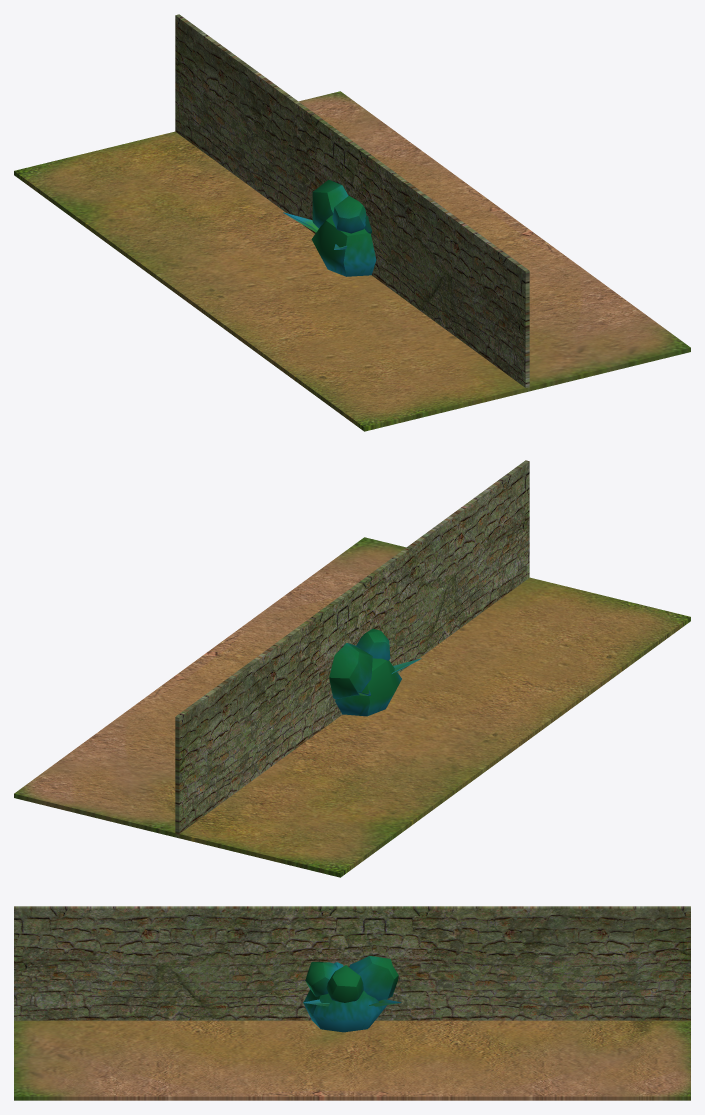
Rendered from assets_LF.fbx.
3 views of the same model, one above another, from view 1: azimuth 30°, elevation 25°; view 2: azimuth 150°, elevation 25°; view 3: azimuth 270°, elevation 25° (orthographic). The views are drawn at different scales.
Parts seen in each view (by area): view 1: GDW01_c_road01_geo, GDW01_l_sideWays01_geo, GDW01_c_bush02_geo; view 2: GDW01_c_road01_geo, GDW01_l_sideWays01_geo, GDW01_c_bush02_geo; view 3: GDW01_l_sideWays01_geo, GDW01_c_road01_geo, GDW01_c_bush02_geo.
Boxes of the visible parts, <box> form: GDW01_c_road01_geo: <box>14,91,690,431</box>; GDW01_l_sideWays01_geo: <box>175,14,529,391</box>; GDW01_c_bush02_geo: <box>311,180,376,276</box>; GDW01_c_road01_geo: <box>14,537,690,877</box>; GDW01_l_sideWays01_geo: <box>175,460,529,838</box>; GDW01_c_bush02_geo: <box>329,628,401,716</box>; GDW01_l_sideWays01_geo: <box>14,906,690,1020</box>; GDW01_c_road01_geo: <box>14,1020,690,1100</box>; GDW01_c_bush02_geo: <box>303,956,398,1032</box>.
Bounding box in the file's own units: 23.82 × 8.5 × 44.27.
